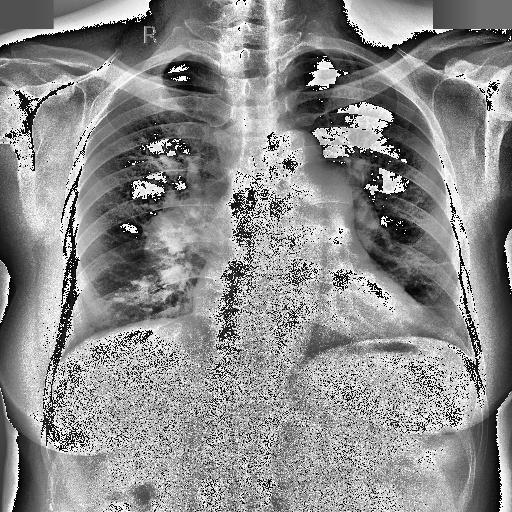0- Aortic enlargement: (268, 130, 324, 170)
3- Cardiomegaly: (188, 272, 437, 372), (188, 268, 432, 340), (196, 261, 426, 337)
7- Lung Opacity: (144, 195, 234, 286)
8- Nodule-Mass: (144, 195, 234, 286)
9- Other lesion: (280, 157, 350, 247), (306, 160, 357, 249)
